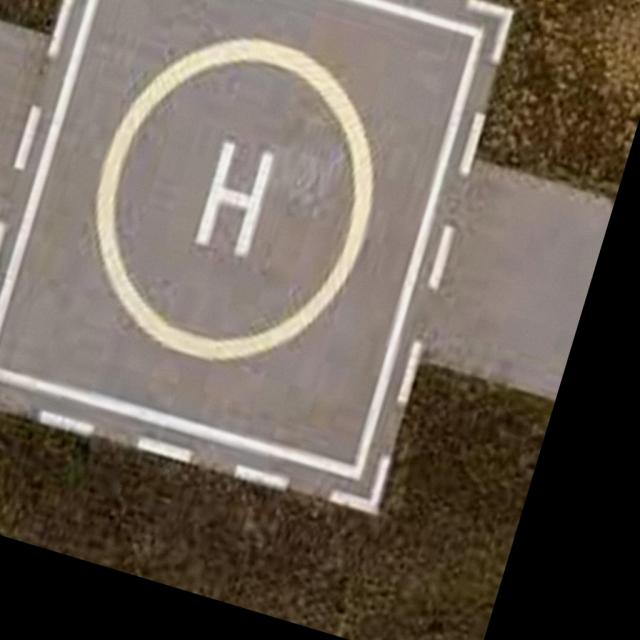helipad: (90, 31, 374, 363)
